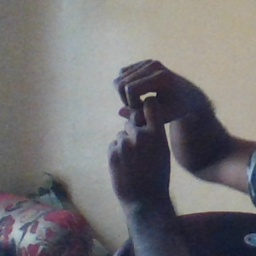Q: (102, 58, 199, 186)
